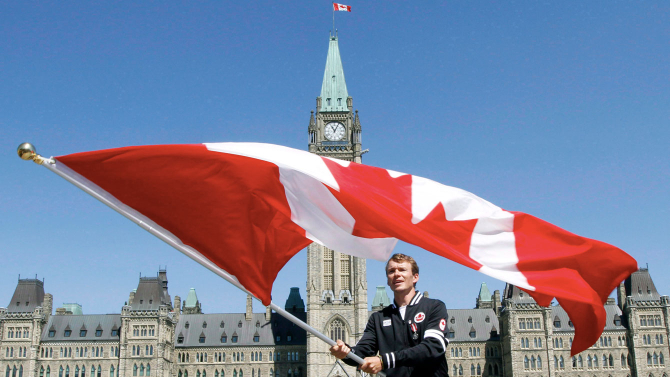Canada flag: (53, 137, 642, 355)
